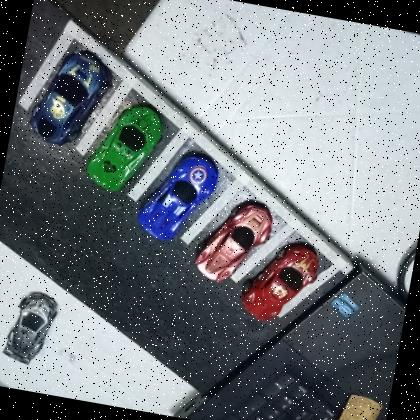Car: (26, 41, 118, 154), (132, 146, 222, 250), (82, 96, 170, 200), (236, 234, 323, 331), (192, 195, 276, 290)
